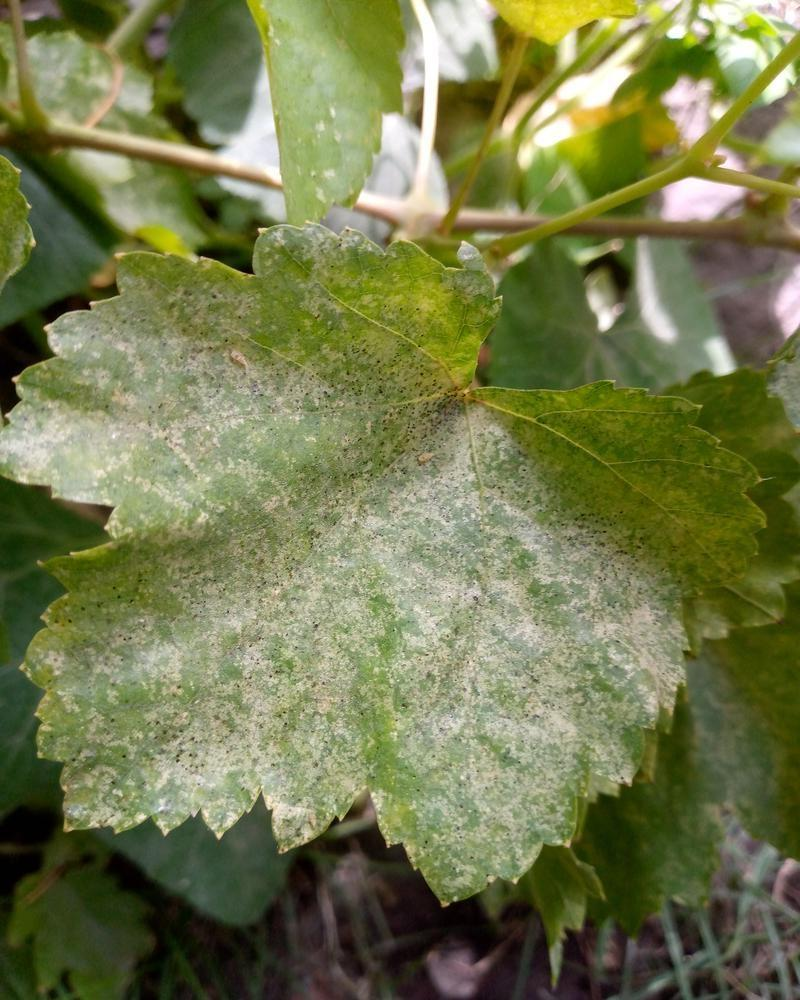Powdery-Mildew: (151, 602, 460, 842), (493, 493, 691, 716), (442, 608, 604, 866), (313, 402, 502, 622), (144, 298, 330, 455), (40, 616, 130, 822), (5, 383, 151, 503), (58, 309, 121, 372), (176, 546, 239, 609), (131, 621, 194, 684)
